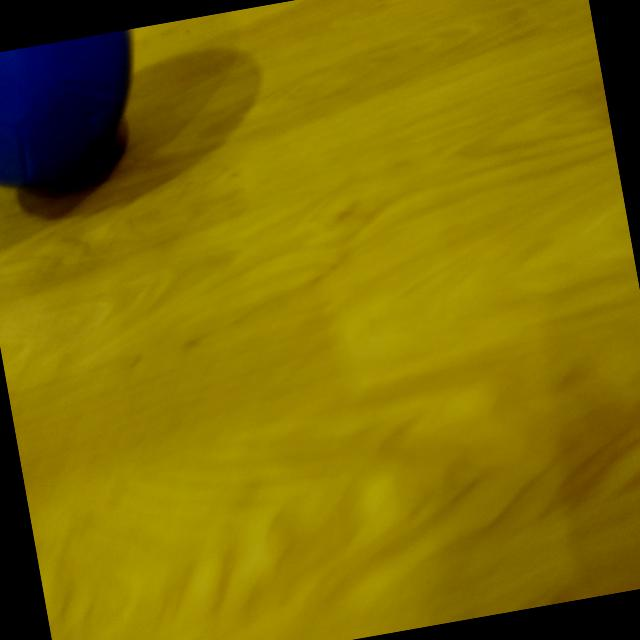blue_ball: (0, 28, 154, 201)
